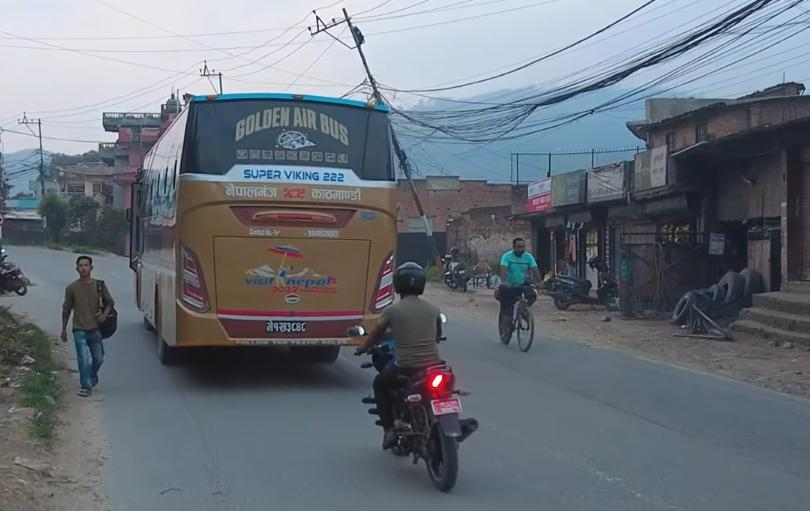bus: (124, 86, 398, 385)
